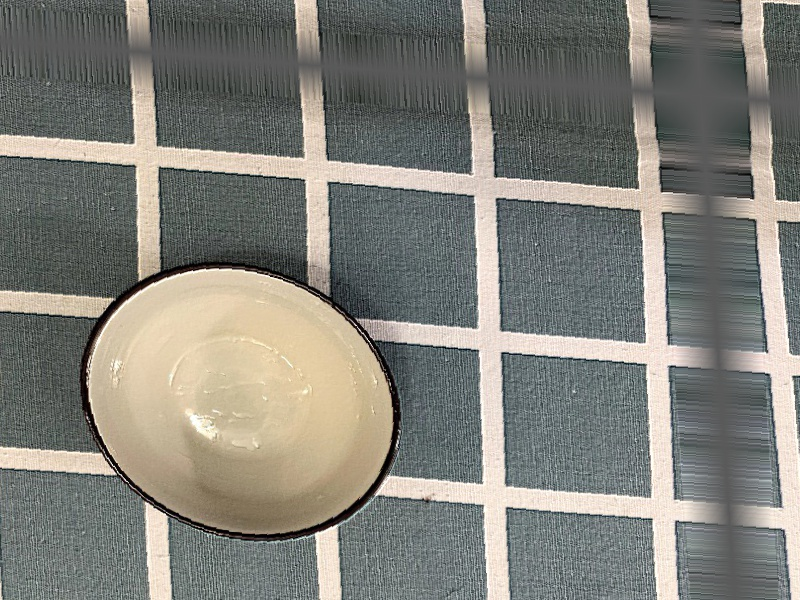bowl_small: (62, 241, 422, 560)
